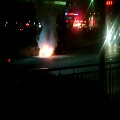fire: (39, 45, 53, 58)
